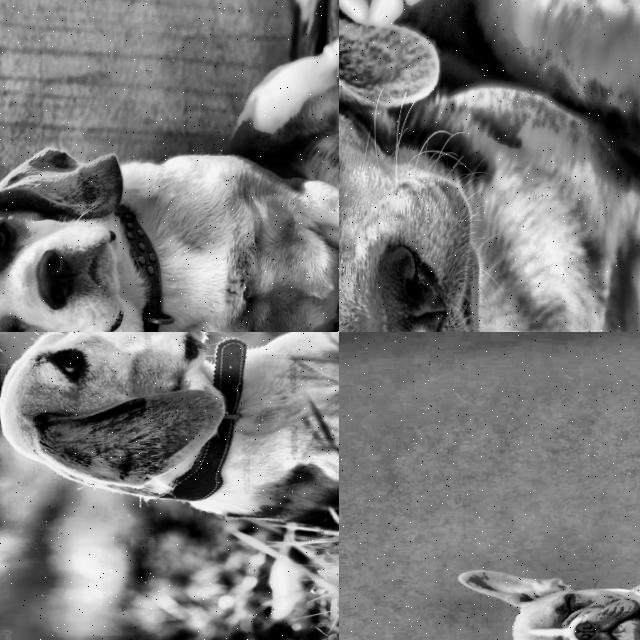beagle: (339, 0, 499, 332), (0, 332, 256, 520), (0, 130, 184, 332)
bulldog: (419, 550, 640, 640)
